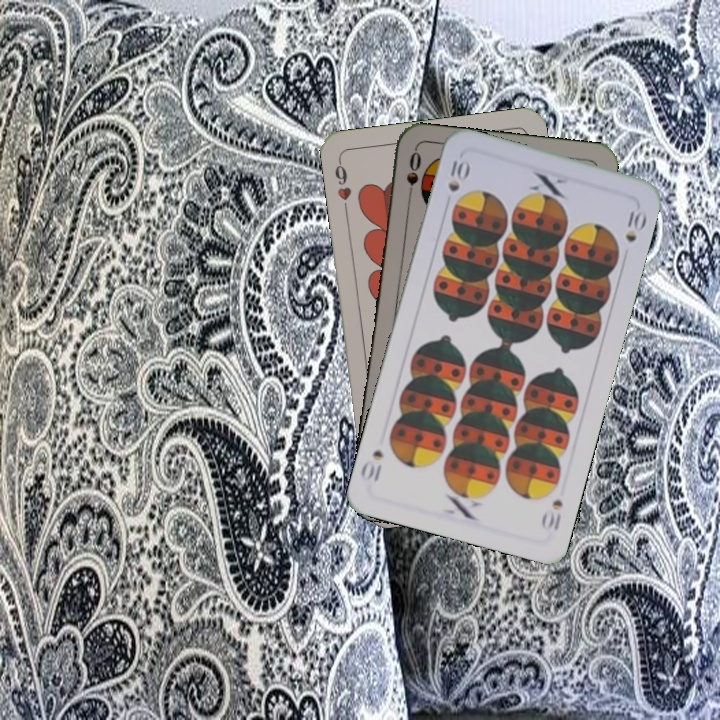H9: (330, 156, 354, 215)
S10: (537, 495, 566, 534), (443, 156, 471, 195)
SO: (402, 147, 423, 206)
